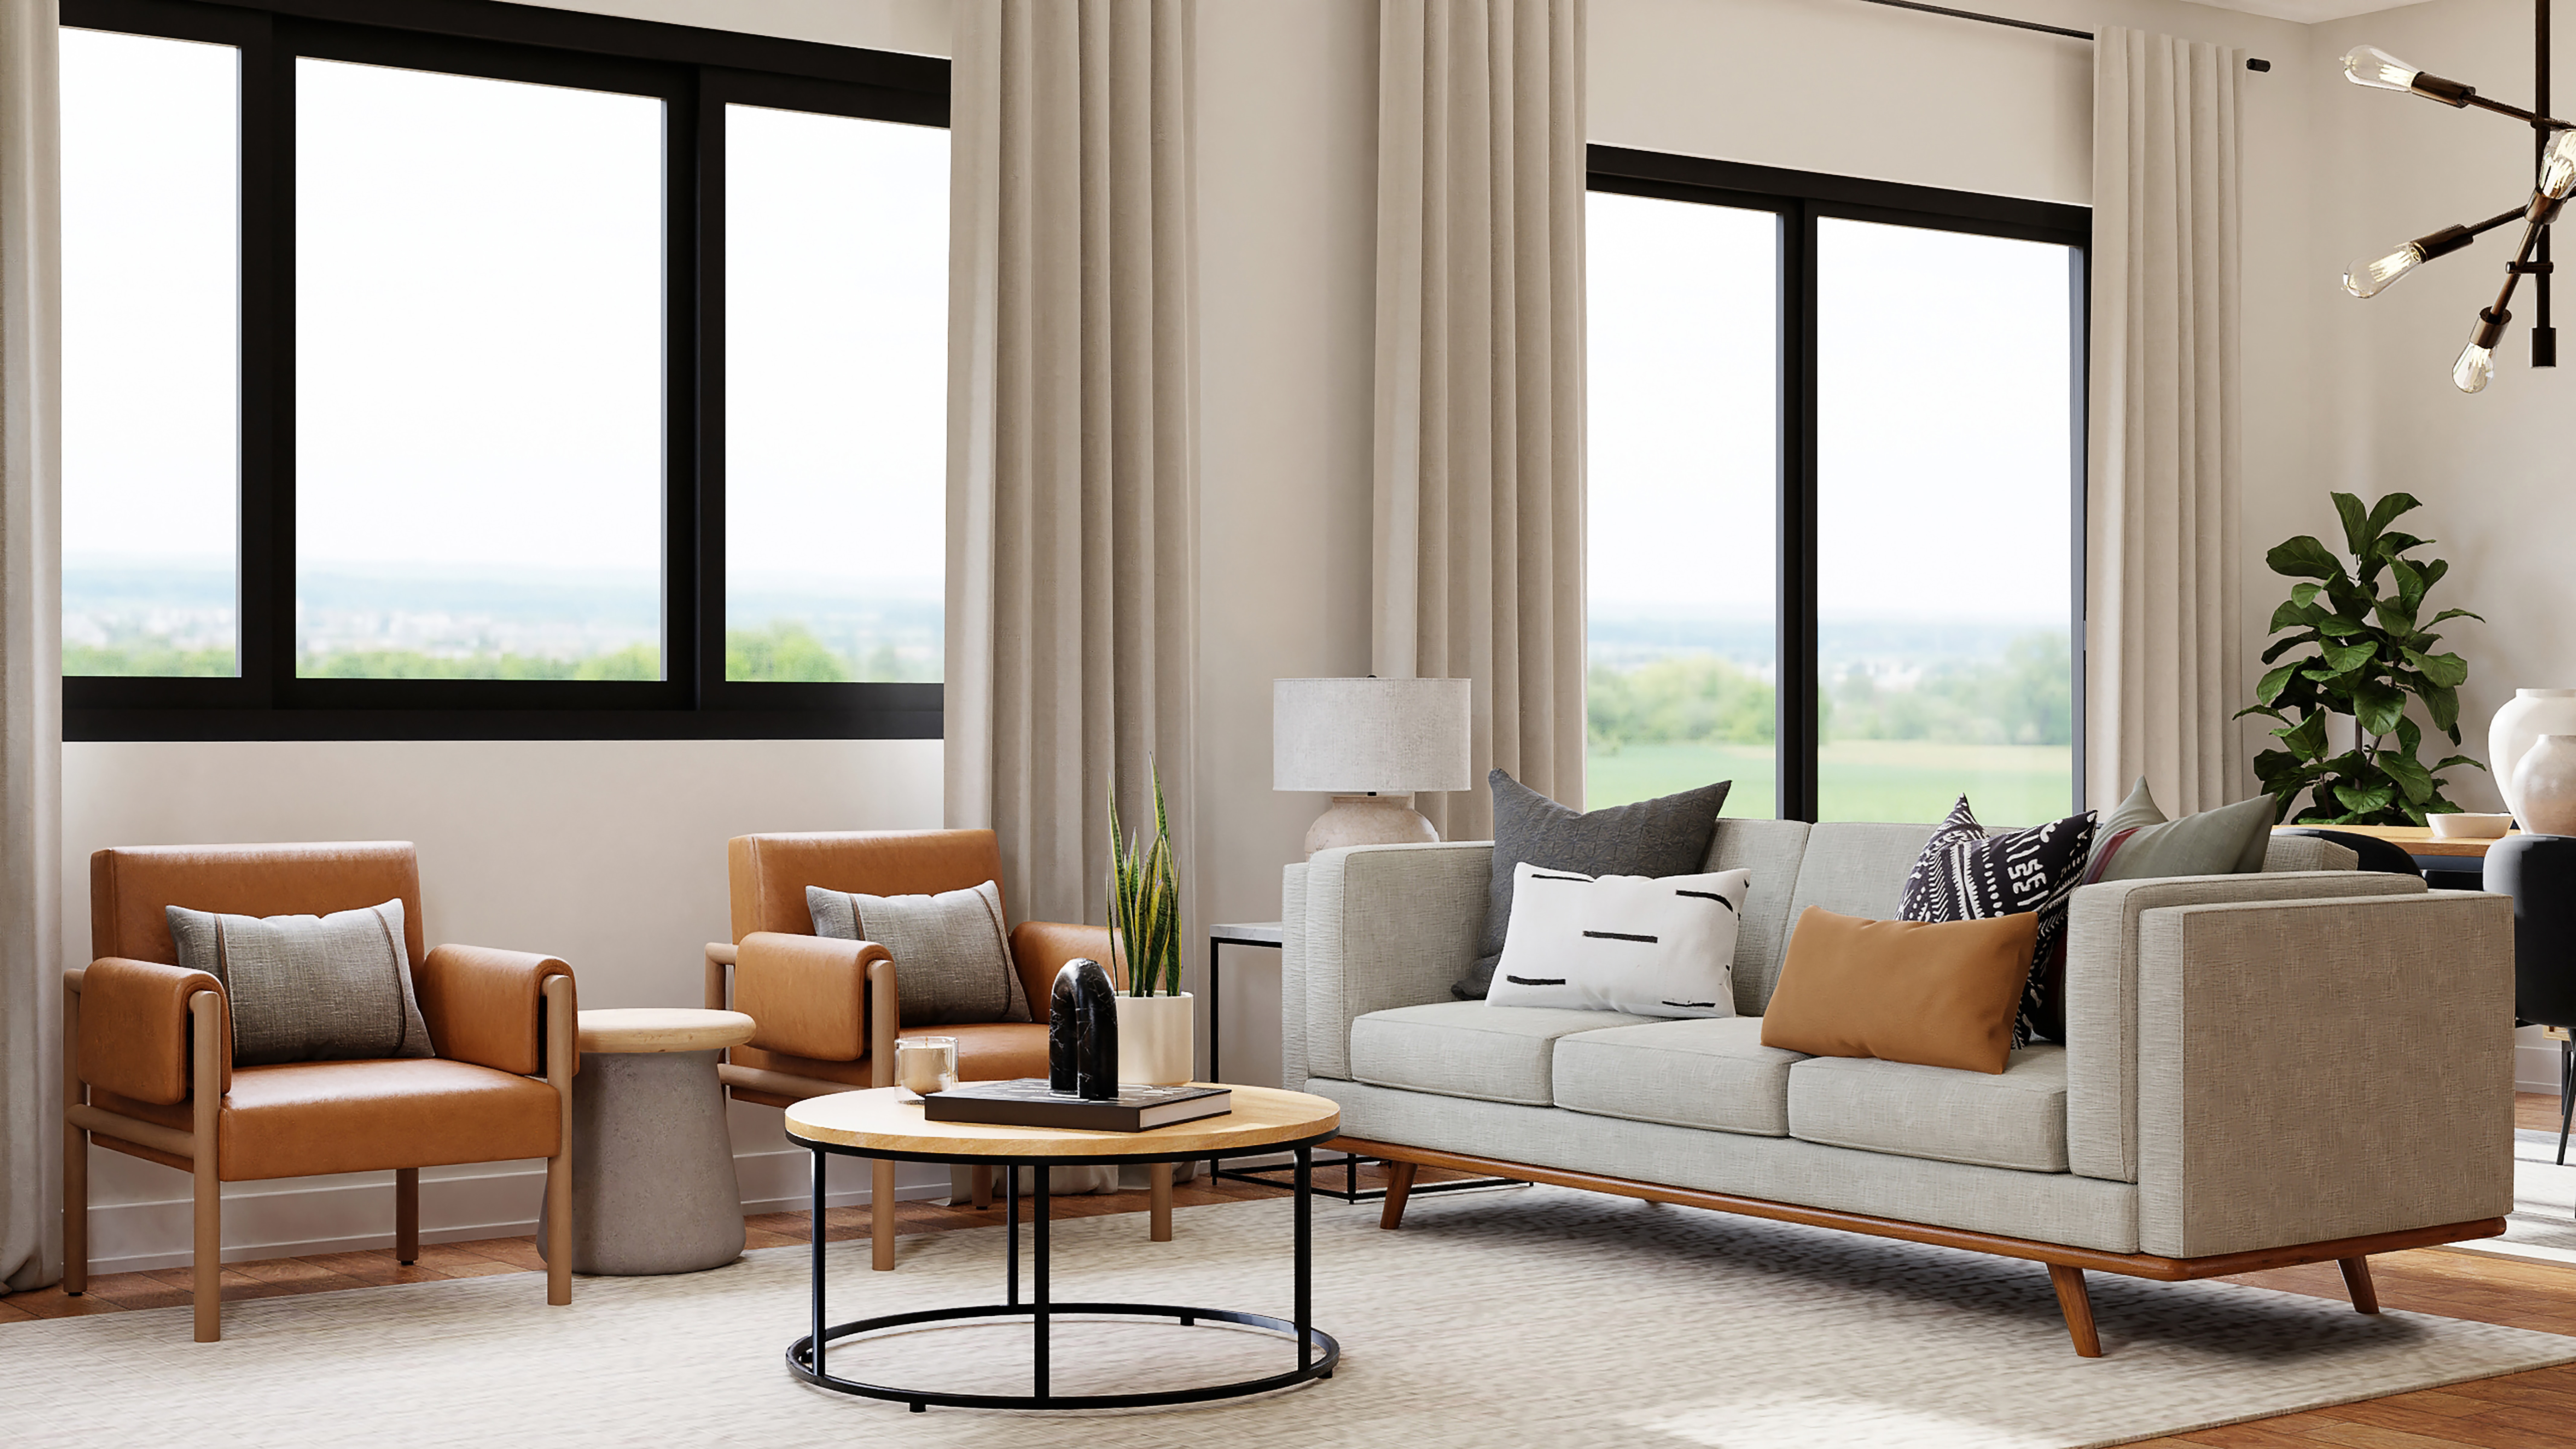Chair: (39, 814, 594, 1355), (685, 794, 1173, 1276)
Plant: (2229, 465, 2482, 823)
Sofa: (1263, 794, 2557, 1353)
Table: (750, 1053, 1357, 1419)
